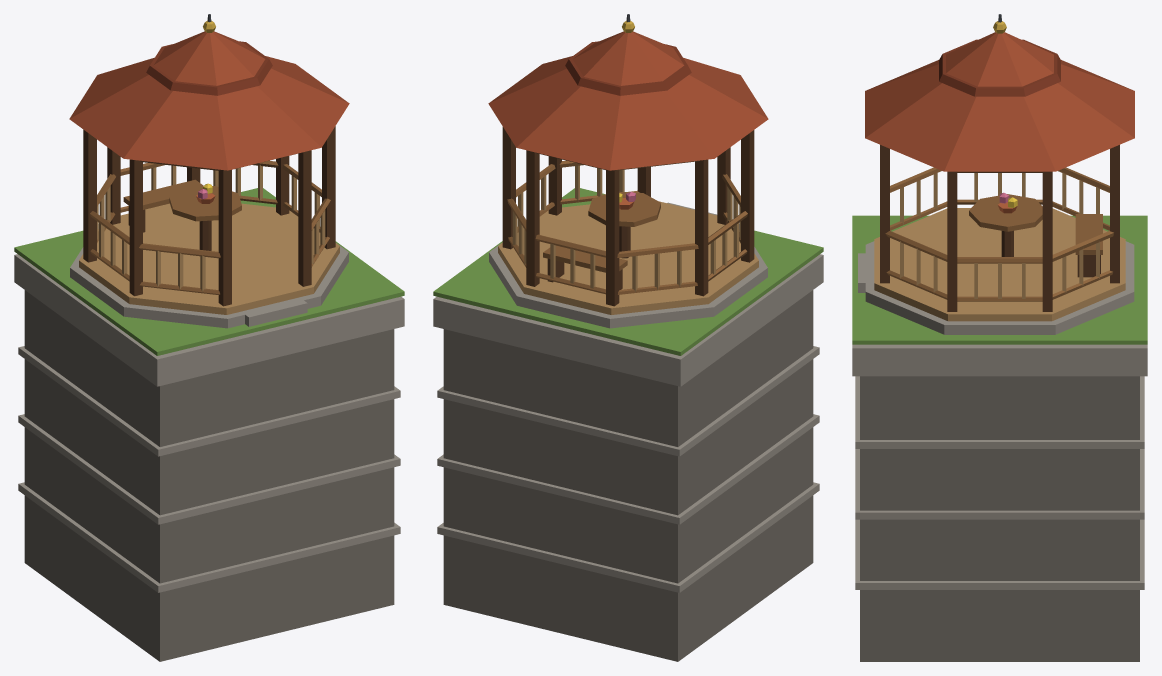
The model's file is decor_gazebo.glb.
The picture shows the model from 3 angles, left to right: view 1: azimuth 30°, elevation 25°; view 2: azimuth 150°, elevation 25°; view 3: azimuth 270°, elevation 25°; orthographic projection. The views are drawn at different scales.
Visible parts, largest first — view 1: decor_gazebo; view 2: decor_gazebo; view 3: decor_gazebo.
Boxes of the visible parts, x1,y1,x2,y2 form: decor_gazebo: [14, 14, 404, 661]; decor_gazebo: [433, 14, 823, 661]; decor_gazebo: [852, 14, 1147, 661].
Bounding box in the file's own units: 3.8 × 8.35 × 3.8.
